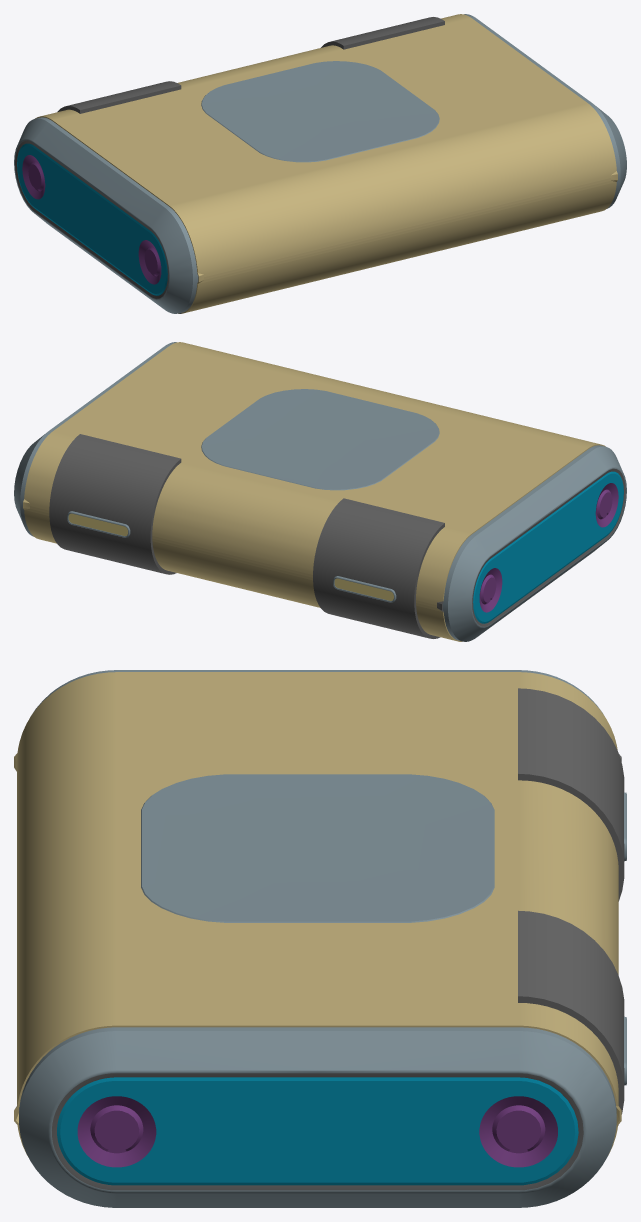
File: env_building_warehouse02_lod1.fbx
3 renders of one model, top to bottom at view 1: azimuth 30°, elevation 25°; view 2: azimuth 150°, elevation 25°; view 3: azimuth 270°, elevation 25°, orthographic. The views are drawn at different scales.
Parts seen in each view (by area): view 1: env_building_warehouse02_lod1; view 2: env_building_warehouse02_lod1; view 3: env_building_warehouse02_lod1.
Boxes of the visible parts, <box> form: env_building_warehouse02_lod1: <box>14,14,626,313</box>; env_building_warehouse02_lod1: <box>14,342,626,641</box>; env_building_warehouse02_lod1: <box>14,670,626,1207</box>.
Size of the model in its own units: 567 by 133 by 381.
